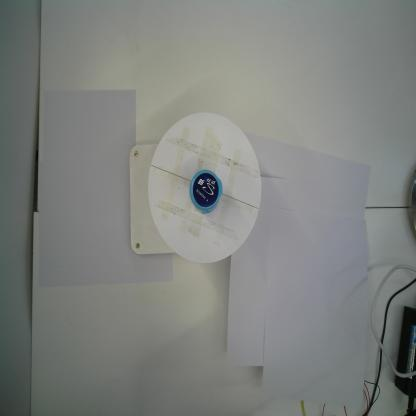Gum: (189, 170, 223, 214)
